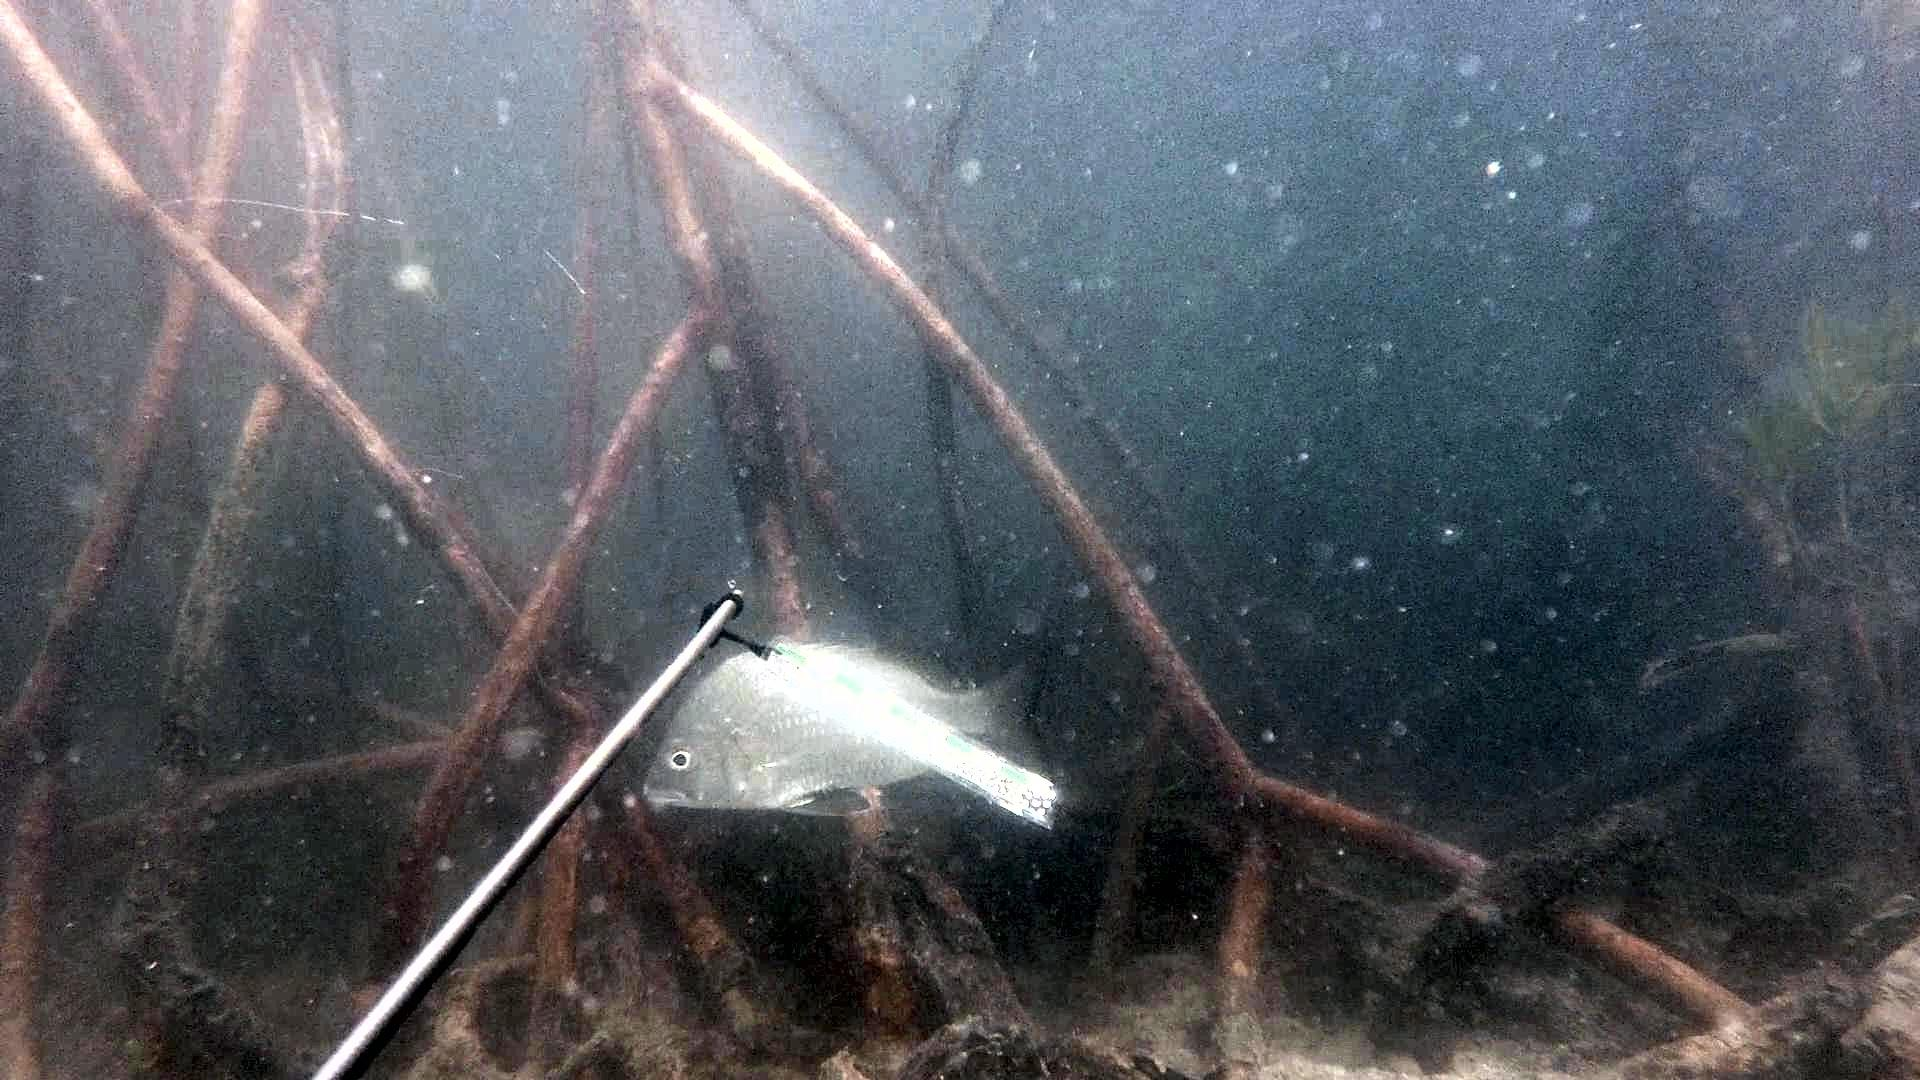acanthopagrus palmaris: (633, 616, 1068, 828)
